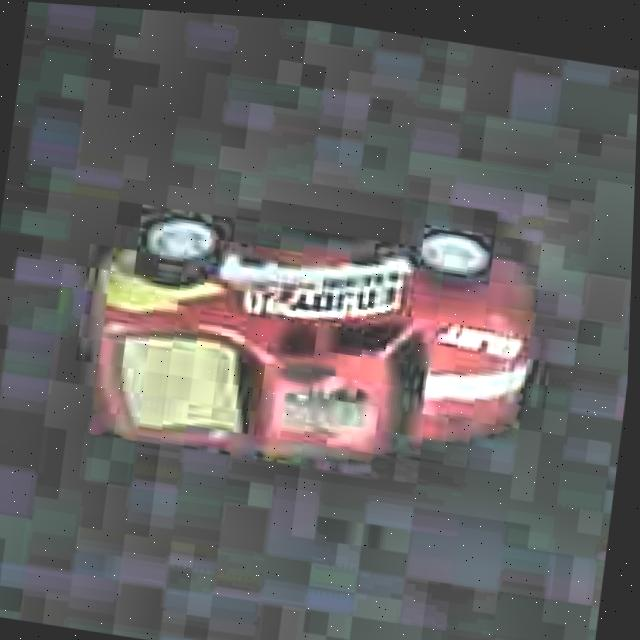car: (65, 155, 561, 510)
